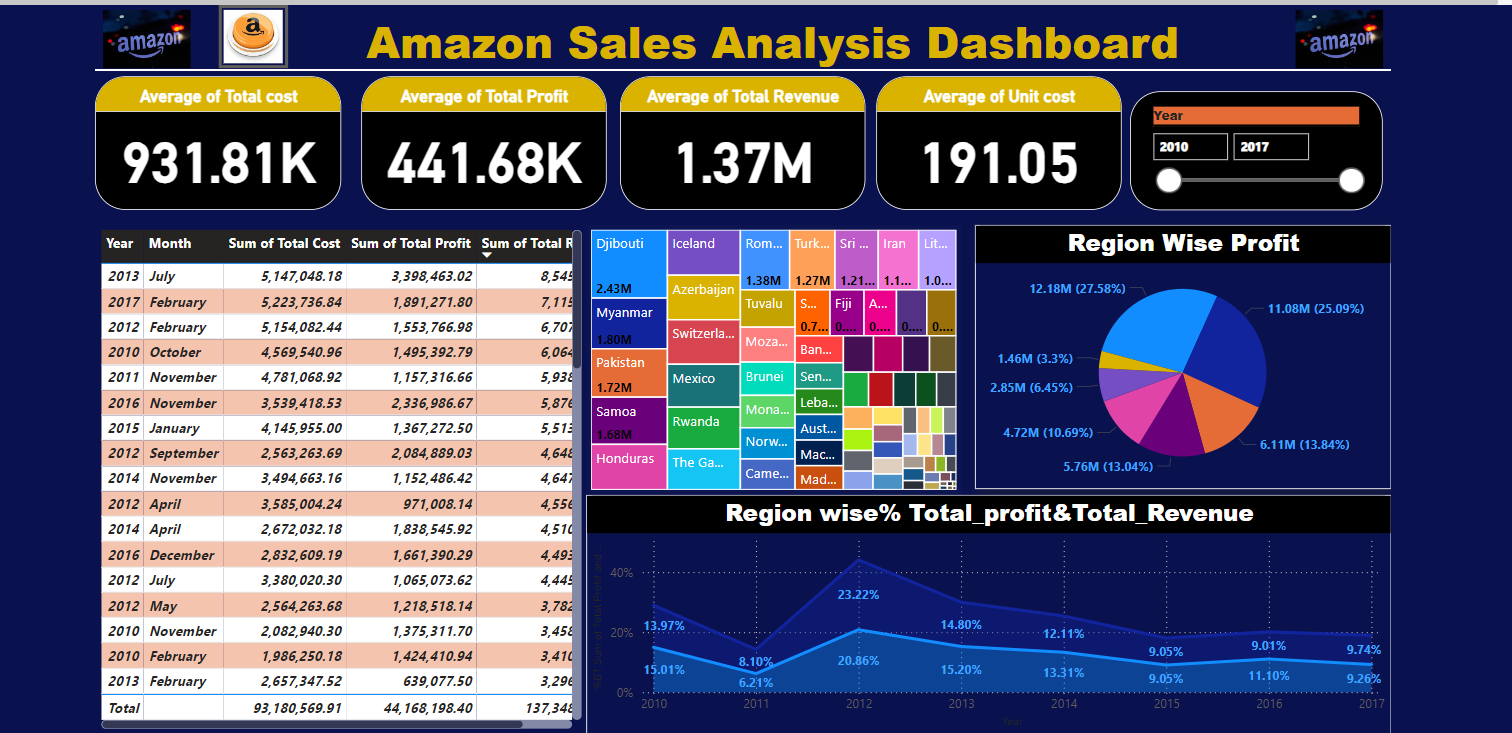

The dashboard page shown, as its layout file describes it:
{"tool":"powerbi","page":{"name":"AMAZON SALES_ANALYSIS_DASHBOARD","canvas":[1280,720],"ordinal":1},"visuals":[{"type":"card","title":"Average of Total cost","fields":{"Values":["Avg(data.Total Cost)"]},"box":[0,70.9,243.3,132.1],"z":0},{"type":"image","box":[0,0,102.7,67.3],"z":1000},{"type":"card","title":"Average of Unit cost","fields":{"Values":["Avg(data.Unit Cost)"]},"box":[771.6,70.9,242.1,132.1],"z":2000},{"type":"card","title":"Average of Total Revenue","fields":{"Values":["Avg(data.Total Revenue)"]},"box":[518.5,70.9,242.1,132.1],"z":3000},{"type":"card","title":"Average of Total Profit","fields":{"Values":["Avg(data.Total Profit)"]},"box":[262.9,70.9,242.1,132.1],"z":4000},{"type":"textbox","box":[262.9,0,824.2,70.9],"z":5000},{"type":"shape","box":[0,0,1280.3,128.4],"z":6000},{"type":"image","box":[1177.6,0,102.7,67.3],"z":7000},{"type":"pieChart","title":"Region Wise Profit","fields":{"Category":["data.Region"],"Y":["Sum(data.Total Profit)"]},"box":[869.4,217.7,410.9,260.5],"z":8000},{"type":"stackedAreaChart","title":"Region wise% Total_profit&Total_Revenue","fields":{"Y":["Sum(data.Total Profit)","Sum(data.Total Revenue)"],"Category":["data.Year"]},"box":[485.5,484.2,794.8,236],"z":9000},{"type":"tableEx","fields":{"Values":["data.Order Date MonthYear.Variation.Date Hierarchy.Year","data.Order Date MonthYear.Variation.Date Hierarchy.Month","Sum(data.Total Cost)","Sum(data.Total Profit)","Sum(data.Total Revenue)"]},"box":[0,217.7,485.5,502.6],"z":10000},{"type":"treemap","fields":{"Group":["data.Country"],"Values":["Sum(data.Total Profit)"]},"box":[485.5,217.7,370.5,266.6],"z":11000},{"type":"slicer","fields":{"Values":["data.Order Date.Variation.Date Hierarchy.Year"]},"box":[1022.3,85.6,249.5,117.4],"z":12000},{"type":"actionButton","box":[122.3,0,68.5,62.4],"z":13000},{"type":"image","box":[122.3,0,68.5,62.4],"z":14000}]}

Visuals, with their boxes on the page's 1280x720 design canvas (x1, y1, x2, y2). These are canvas units, not pixel positions in the 1512x733 screenshot, which may show the page scaled, cropped or inside an application window:
"Average of Total cost" card: Rect(0, 71, 243, 203)
image: Rect(0, 0, 103, 67)
"Average of Unit cost" card: Rect(772, 71, 1014, 203)
"Average of Total Revenue" card: Rect(518, 71, 761, 203)
"Average of Total Profit" card: Rect(263, 71, 505, 203)
textbox: Rect(263, 0, 1087, 71)
shape: Rect(0, 0, 1280, 128)
image: Rect(1178, 0, 1280, 67)
"Region Wise Profit" pieChart: Rect(869, 218, 1280, 478)
"Region wise% Total_profit&Total_Revenue" stackedAreaChart: Rect(486, 484, 1280, 720)
tableEx - data.Order Date MonthYear.Variation.Date Hierarchy.Year x data.Order Date MonthYear.Variation.Date Hierarchy.Month: Rect(0, 218, 486, 720)
treemap - data.Country x Sum(data.Total Profit): Rect(486, 218, 856, 484)
slicer - data.Order Date.Variation.Date Hierarchy.Year: Rect(1022, 86, 1272, 203)
actionButton: Rect(122, 0, 191, 62)
image: Rect(122, 0, 191, 62)
